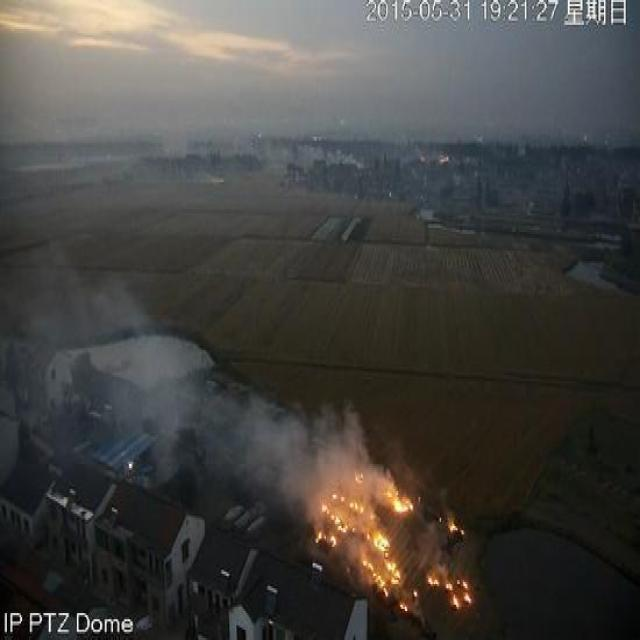Fire: (314, 450, 417, 610), (425, 562, 473, 607), (448, 520, 463, 546)
Smoke: (240, 393, 316, 508)
